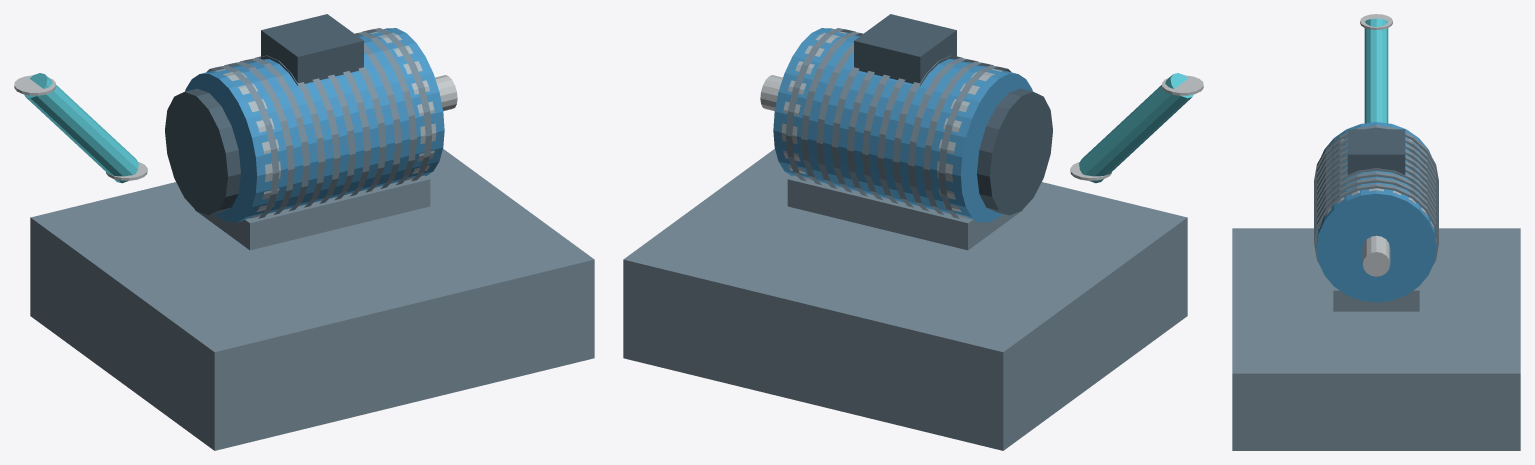
File: 16_L77_BulkSlurryDeliveryPump.glb
3 renders of one model, left to right at view 1: azimuth 30°, elevation 25°; view 2: azimuth 150°, elevation 25°; view 3: azimuth 270°, elevation 25°, orthographic. The views are drawn at different scales.
Parts seen in each view (by area): view 1: BulkSlurryDeliveryPump_Node_0000, BulkSlurryDeliveryPump_Node_0001, BulkSlurryDeliveryPump_Node_0014, BulkSlurryDeliveryPump_Node_0015, BulkSlurryDeliveryPump_Node_0016, BulkSlurryDeliveryPump_Node_0019, BulkSlurryDeliveryPump_Node_0002, BulkSlurryDeliveryPump_Node_0012, BulkSlurryDeliveryPump_Node_0003, BulkSlurryDeliveryPump_Node_0004, BulkSlurryDeliveryPump_Node_0011, BulkSlurryDeliveryPump_Node_0010 (+8 smaller); view 2: BulkSlurryDeliveryPump_Node_0000, BulkSlurryDeliveryPump_Node_0001, BulkSlurryDeliveryPump_Node_0014, BulkSlurryDeliveryPump_Node_0015, BulkSlurryDeliveryPump_Node_0016, BulkSlurryDeliveryPump_Node_0019, BulkSlurryDeliveryPump_Node_0002, BulkSlurryDeliveryPump_Node_0012, BulkSlurryDeliveryPump_Node_0003, BulkSlurryDeliveryPump_Node_0004, BulkSlurryDeliveryPump_Node_0011, BulkSlurryDeliveryPump_Node_0010 (+8 smaller); view 3: BulkSlurryDeliveryPump_Node_0000, BulkSlurryDeliveryPump_Node_0001, BulkSlurryDeliveryPump_Node_0019, BulkSlurryDeliveryPump_Node_0016, BulkSlurryDeliveryPump_Node_0015, BulkSlurryDeliveryPump_Node_0013, BulkSlurryDeliveryPump_Node_0012, BulkSlurryDeliveryPump_Node_0011, BulkSlurryDeliveryPump_Node_0010, BulkSlurryDeliveryPump_Node_0009, BulkSlurryDeliveryPump_Node_0002, BulkSlurryDeliveryPump_Node_0004 (+6 smaller).
Part boxes in pixels (left/top/right/bottom): BulkSlurryDeliveryPump_Node_0000: left=30, top=149, right=594, bottom=450; BulkSlurryDeliveryPump_Node_0001: left=185, top=28, right=444, bottom=222; BulkSlurryDeliveryPump_Node_0014: left=165, top=88, right=240, bottom=215; BulkSlurryDeliveryPump_Node_0015: left=195, top=175, right=430, bottom=250; BulkSlurryDeliveryPump_Node_0016: left=261, top=14, right=363, bottom=85; BulkSlurryDeliveryPump_Node_0019: left=24, top=73, right=138, bottom=183; BulkSlurryDeliveryPump_Node_0002: left=206, top=65, right=279, bottom=218; BulkSlurryDeliveryPump_Node_0012: left=362, top=28, right=432, bottom=181; BulkSlurryDeliveryPump_Node_0003: left=224, top=61, right=294, bottom=214; BulkSlurryDeliveryPump_Node_0004: left=240, top=58, right=309, bottom=211; BulkSlurryDeliveryPump_Node_0011: left=355, top=31, right=416, bottom=184; BulkSlurryDeliveryPump_Node_0010: left=364, top=43, right=401, bottom=188; BulkSlurryDeliveryPump_Node_0000: left=623, top=149, right=1187, bottom=450; BulkSlurryDeliveryPump_Node_0001: left=773, top=28, right=1032, bottom=222; BulkSlurryDeliveryPump_Node_0014: left=977, top=88, right=1052, bottom=215; BulkSlurryDeliveryPump_Node_0015: left=787, top=175, right=1022, bottom=250; BulkSlurryDeliveryPump_Node_0016: left=854, top=14, right=956, bottom=85; BulkSlurryDeliveryPump_Node_0019: left=1079, top=73, right=1193, bottom=183; BulkSlurryDeliveryPump_Node_0002: left=938, top=65, right=1011, bottom=218; BulkSlurryDeliveryPump_Node_0012: left=785, top=28, right=855, bottom=181; BulkSlurryDeliveryPump_Node_0003: left=923, top=61, right=993, bottom=214; BulkSlurryDeliveryPump_Node_0004: left=908, top=58, right=977, bottom=211; BulkSlurryDeliveryPump_Node_0011: left=801, top=31, right=862, bottom=184; BulkSlurryDeliveryPump_Node_0010: left=816, top=43, right=853, bottom=188; BulkSlurryDeliveryPump_Node_0000: left=1232, top=228, right=1520, bottom=450; BulkSlurryDeliveryPump_Node_0001: left=1316, top=122, right=1436, bottom=302; BulkSlurryDeliveryPump_Node_0019: left=1364, top=18, right=1388, bottom=123; BulkSlurryDeliveryPump_Node_0016: left=1347, top=129, right=1405, bottom=174; BulkSlurryDeliveryPump_Node_0015: left=1333, top=286, right=1419, bottom=311; BulkSlurryDeliveryPump_Node_0013: left=1362, top=235, right=1390, bottom=276; BulkSlurryDeliveryPump_Node_0012: left=1314, top=183, right=1438, bottom=264; BulkSlurryDeliveryPump_Node_0011: left=1314, top=177, right=1438, bottom=237; BulkSlurryDeliveryPump_Node_0010: left=1314, top=172, right=1438, bottom=232; BulkSlurryDeliveryPump_Node_0009: left=1314, top=168, right=1438, bottom=226; BulkSlurryDeliveryPump_Node_0002: left=1314, top=125, right=1438, bottom=185; BulkSlurryDeliveryPump_Node_0004: left=1314, top=144, right=1438, bottom=197.
Bounding box in the file's own units: 1.75 × 1.13 × 1.15.
